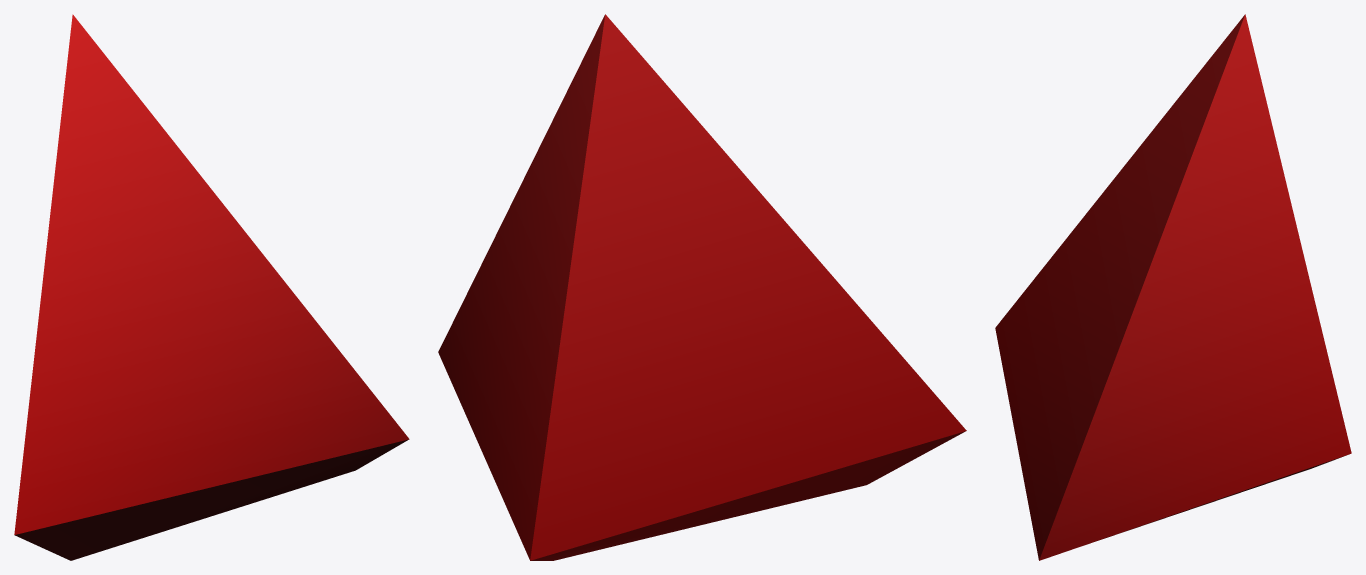
File: c_roof_triangle_ae.fbx
The picture shows the model from 3 angles, left to right: view 1: azimuth 30°, elevation 25°; view 2: azimuth 150°, elevation 25°; view 3: azimuth 270°, elevation 25°; orthographic projection. The views are drawn at different scales.
Parts seen in each view (by area): view 1: c_roof_triangle_ae; view 2: c_roof_triangle_ae; view 3: c_roof_triangle_ae.
Boxes of the visible parts, bbox=[...] form: c_roof_triangle_ae: bbox=[14, 14, 409, 560]; c_roof_triangle_ae: bbox=[438, 14, 966, 560]; c_roof_triangle_ae: bbox=[995, 14, 1351, 560].
Bounding box in the file's own units: 3.75 × 3.81 × 2.68.
